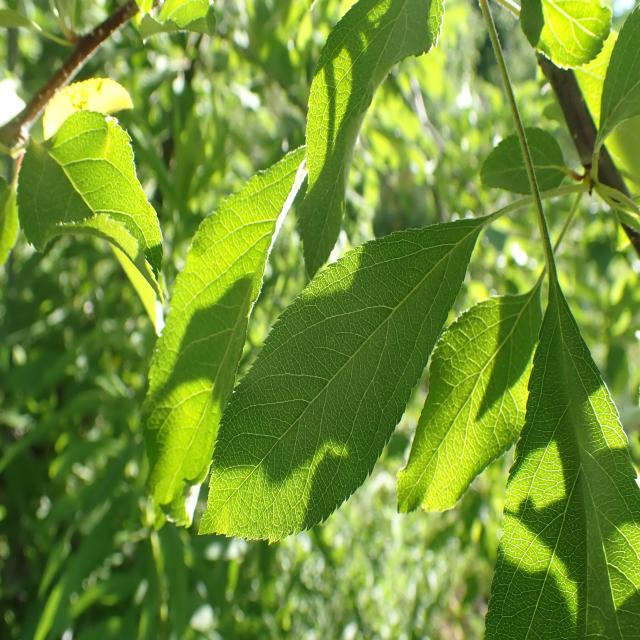healthy: (197, 217, 488, 547), (143, 143, 308, 531), (484, 284, 640, 640), (298, 0, 444, 282), (16, 110, 172, 339), (397, 283, 544, 515), (521, 0, 614, 72), (597, 5, 640, 148), (480, 126, 565, 196)
